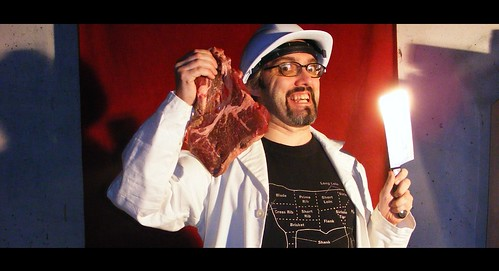person hardhat: (113, 23, 412, 249)
